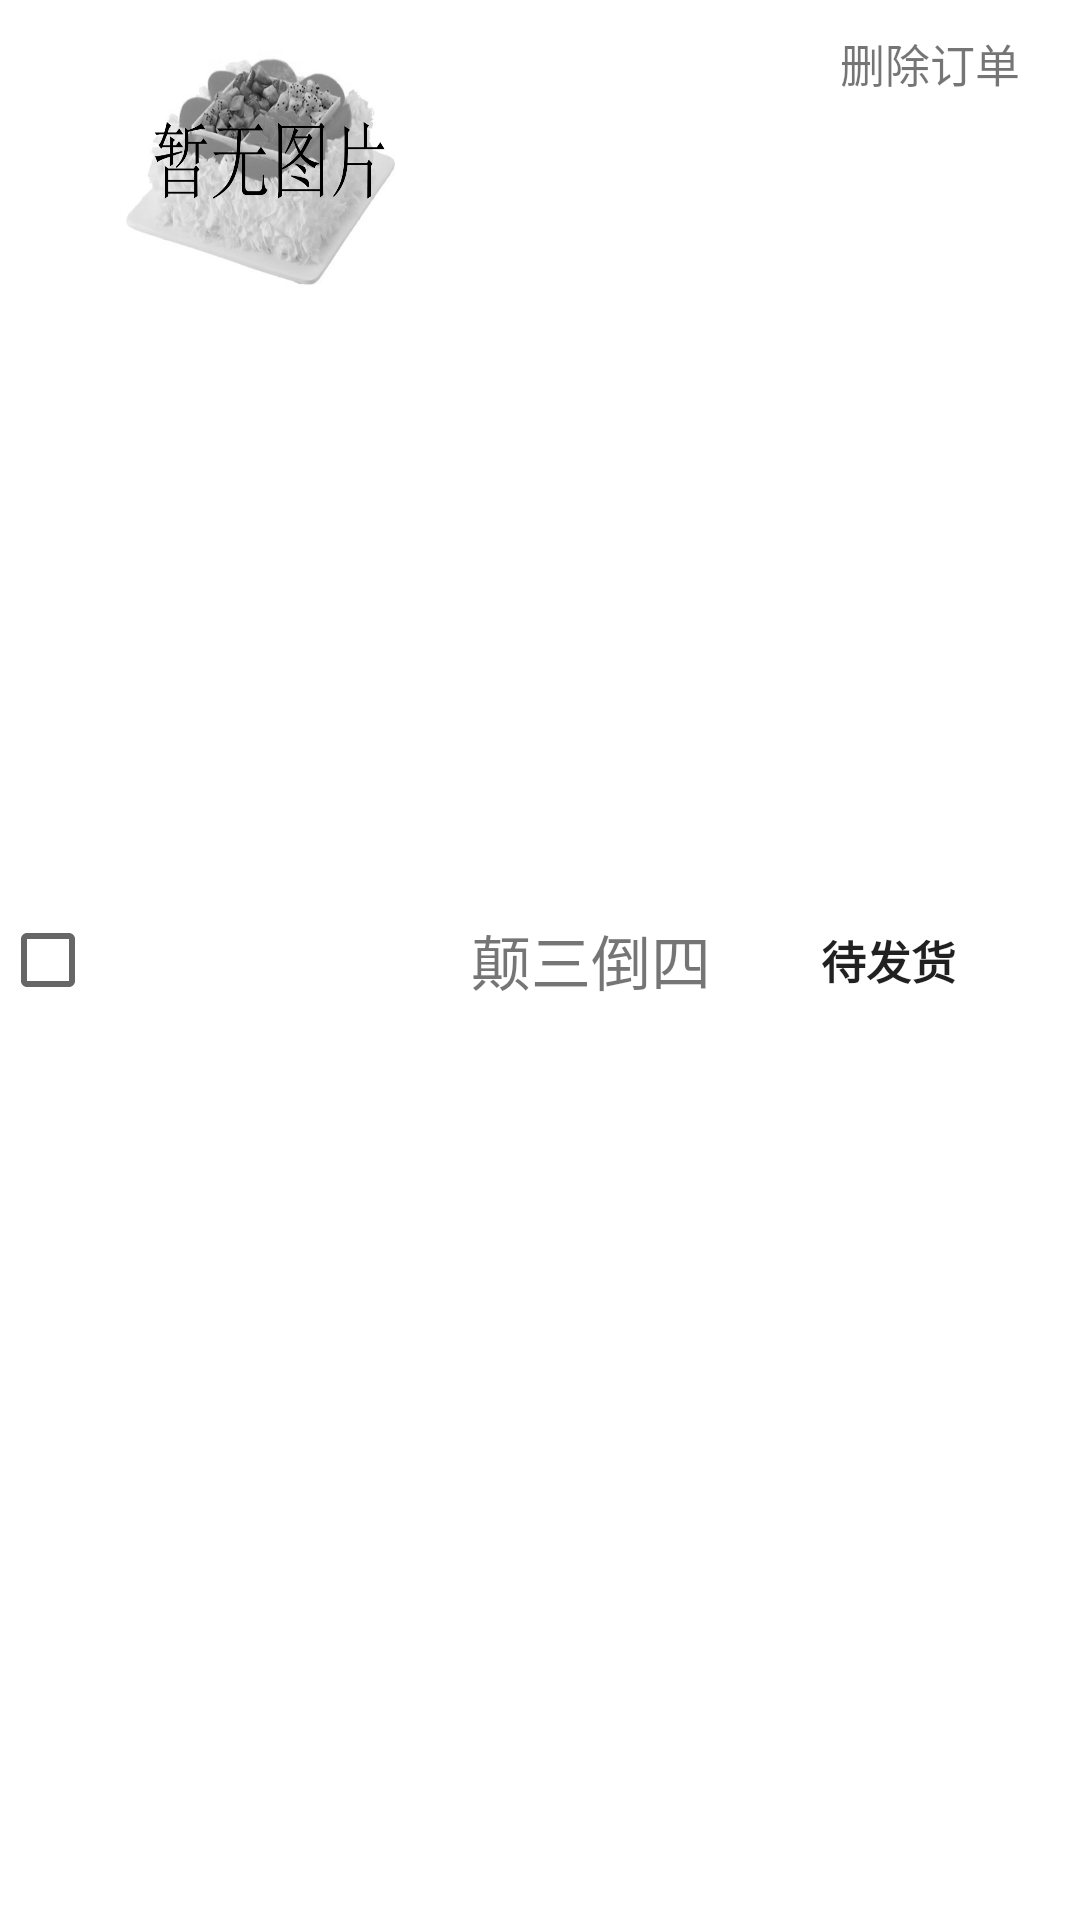

Named icons in this screenshot (1080 × 1920) and their centers, point (x, y):
cake: point (261, 172)
